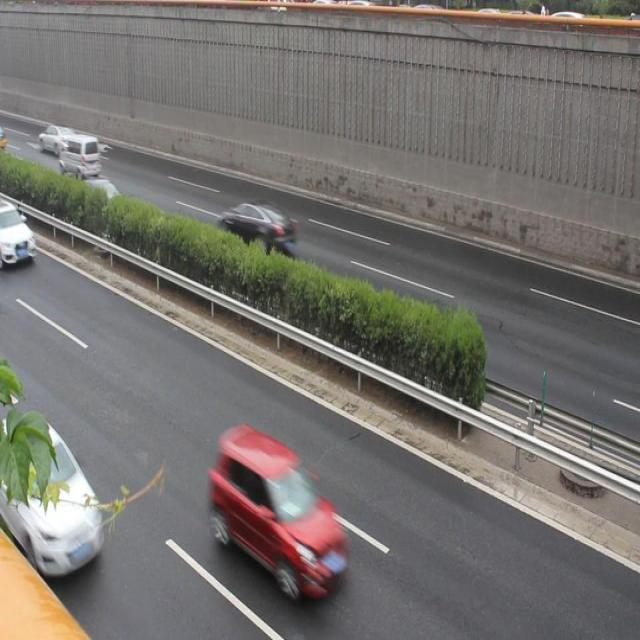car: (209, 424, 347, 598), (0, 408, 104, 567), (217, 195, 296, 262), (1, 200, 41, 272), (78, 170, 123, 220), (38, 121, 73, 155)
truck: (61, 130, 100, 182)
